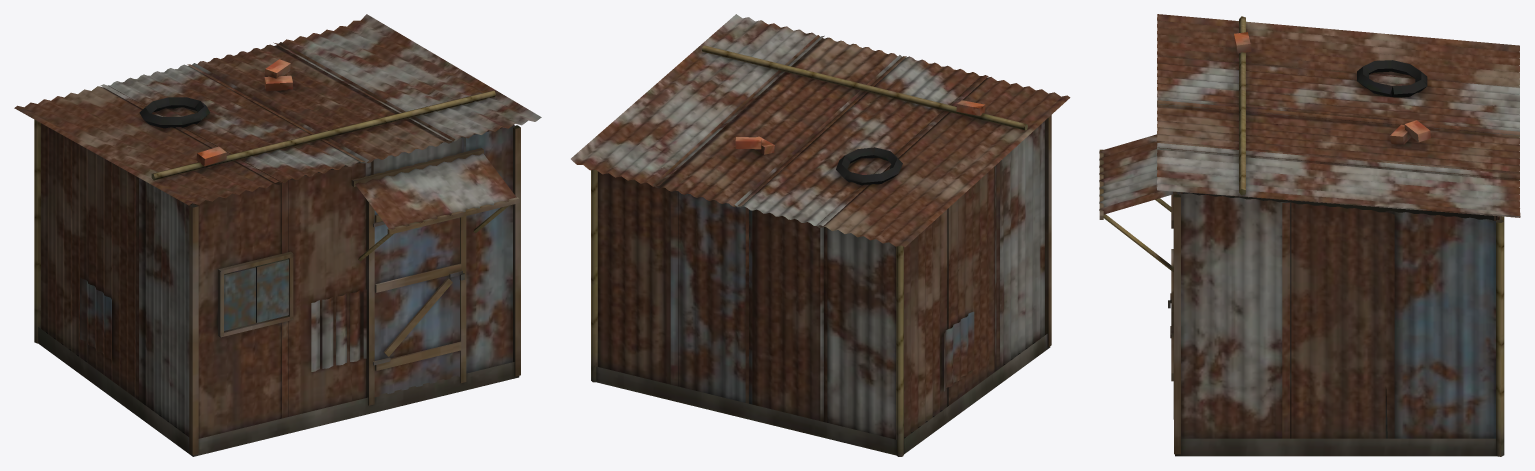
Rendered from tin_shed.glb.
3 views of the same model, side by side, from view 1: azimuth 30°, elevation 25°; view 2: azimuth 150°, elevation 25°; view 3: azimuth 270°, elevation 25° (orthographic). The views are drawn at different scales.
Parts seen in each view (by area): view 1: body; view 2: body; view 3: body.
Boxes of the visible parts, left/top/right/bottom form: body: left=14, top=14, right=541, bottom=456; body: left=571, top=14, right=1070, bottom=456; body: left=1099, top=14, right=1520, bottom=456.
Bounding box in the file's own units: 3.31 × 2.41 × 3.3.
Materials: 1 (1 with a texture image).
